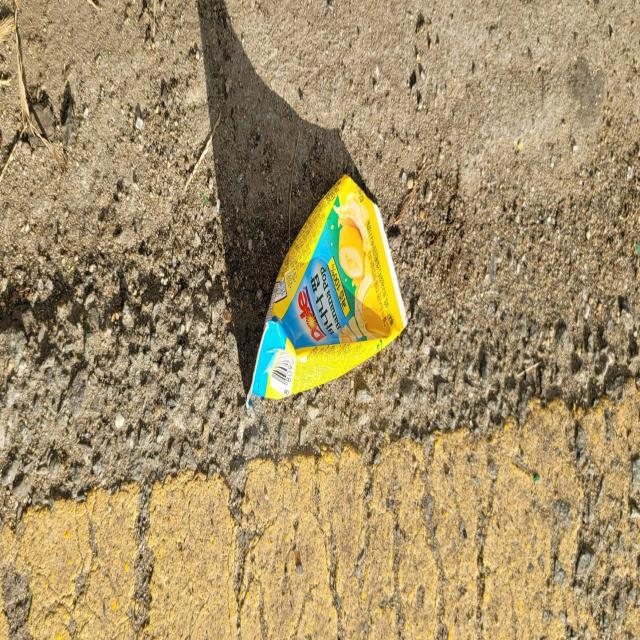paperpack: (248, 174, 408, 403)
